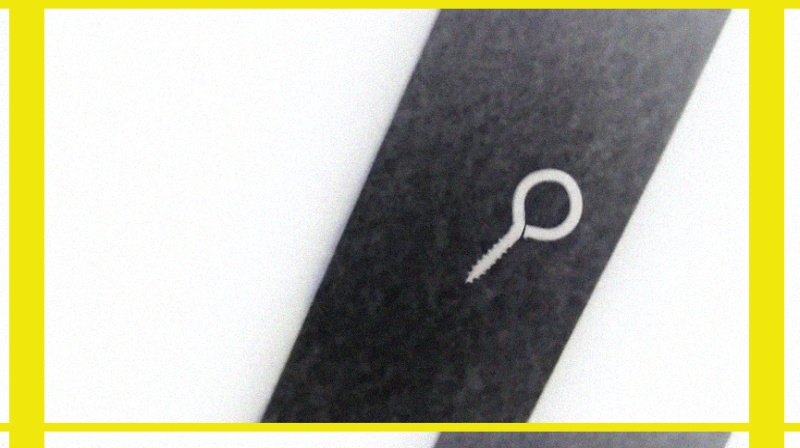O001: (462, 165, 585, 283)
